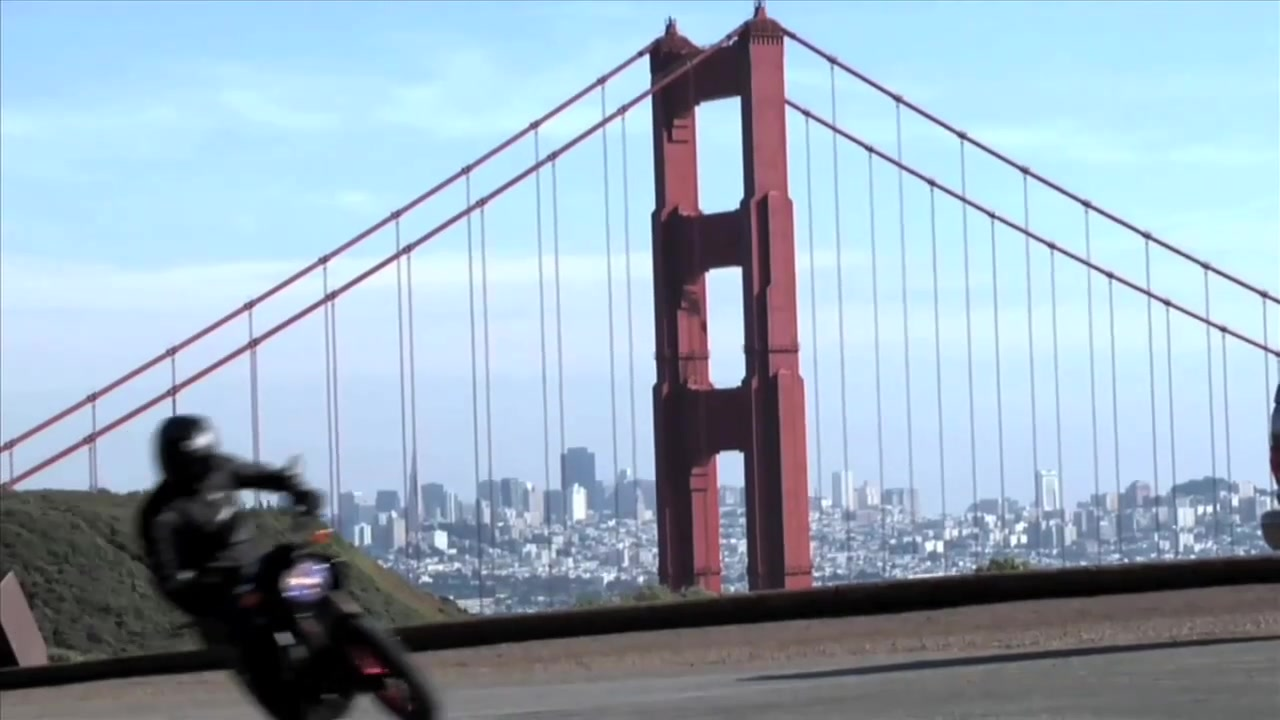motorbike: (134, 491, 442, 719)
